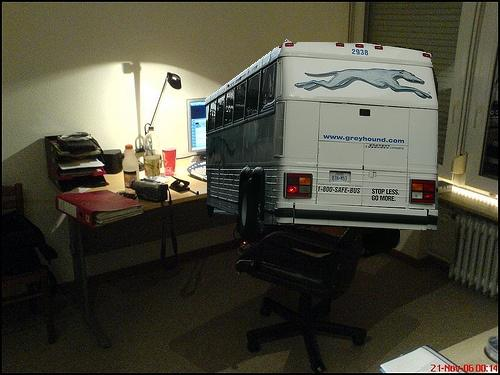tampered: (206, 40, 438, 253)
